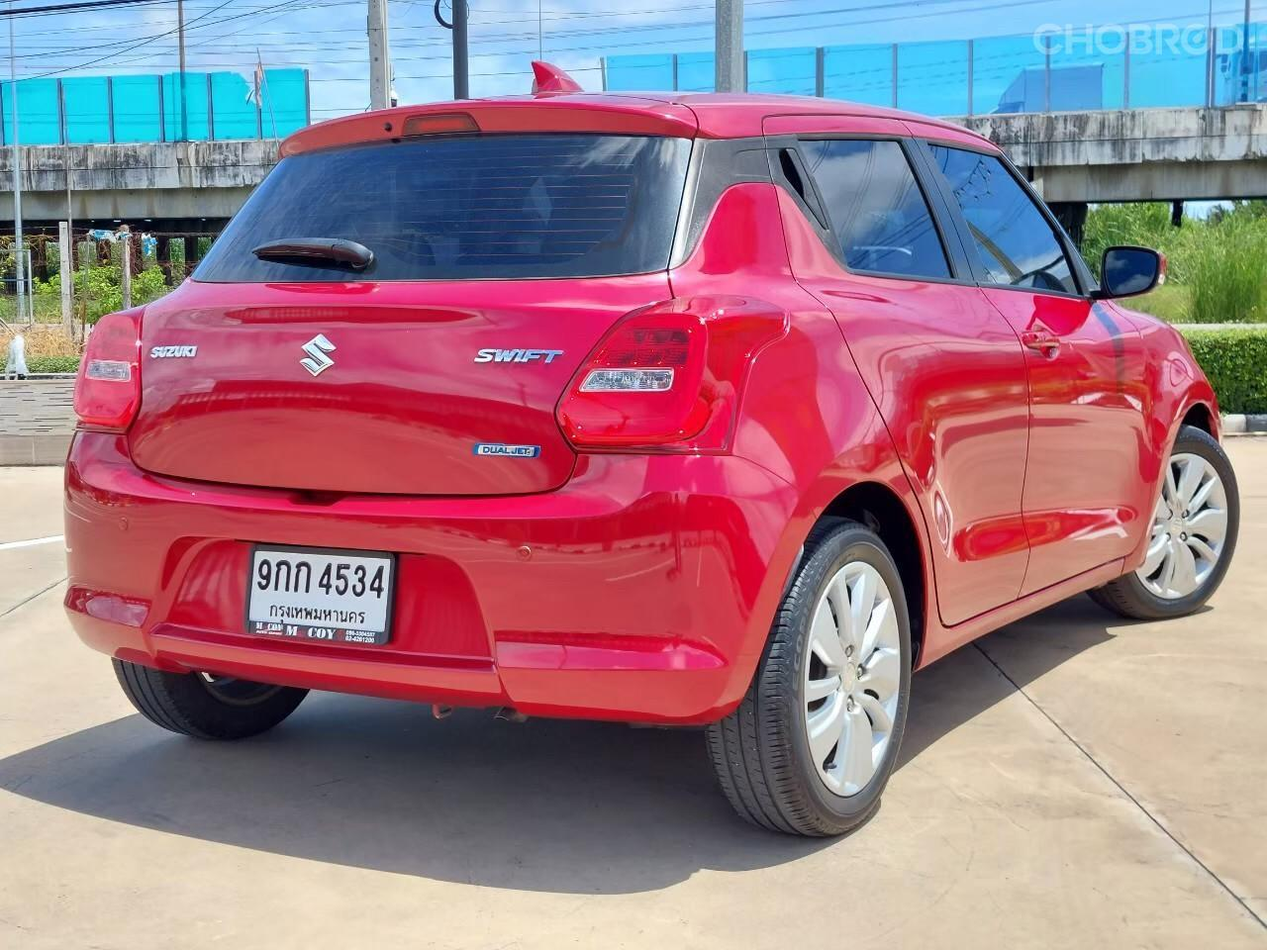license-plate: (245, 540, 397, 644)
